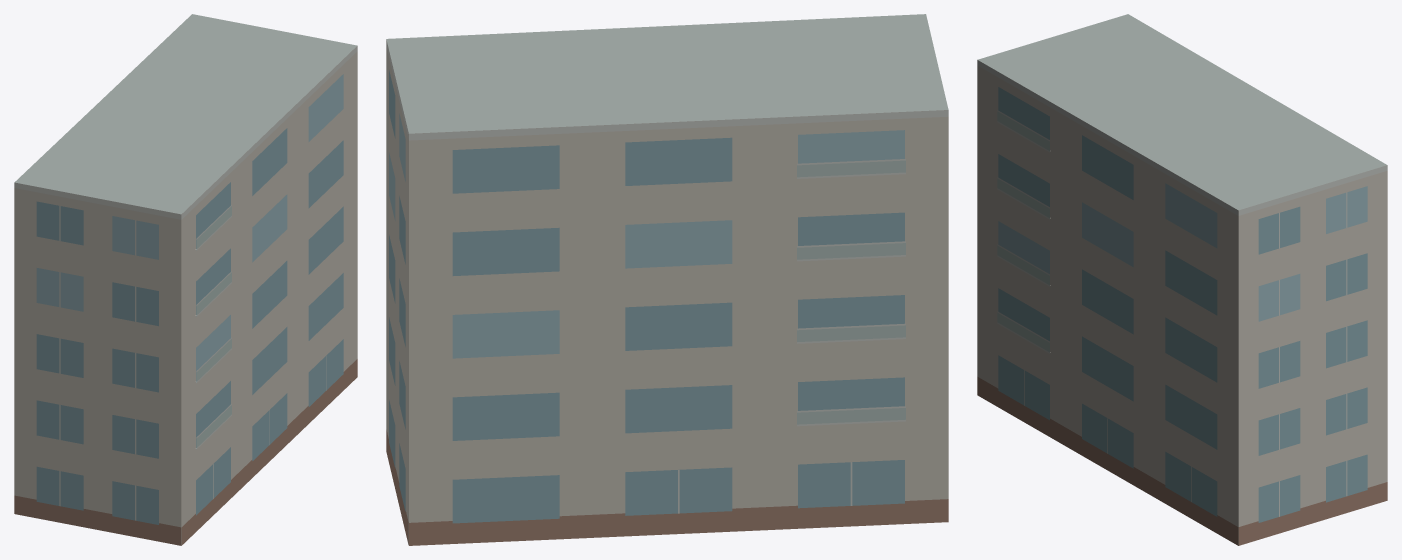
The model's file is survey-upis-32711226.glb.
3 views of the same model, side by side, from view 1: azimuth 30°, elevation 25°; view 2: azimuth 150°, elevation 25°; view 3: azimuth 270°, elevation 25° (orthographic). The views are drawn at different scales.
Parts seen in each view (by area): view 1: survey-upis-32711226.tmp; view 2: survey-upis-32711226.tmp; view 3: survey-upis-32711226.tmp.
Part boxes in pixels (x1,y1,x2,y2): survey-upis-32711226.tmp: (14,14,357,545); survey-upis-32711226.tmp: (386,14,948,545); survey-upis-32711226.tmp: (977,14,1387,545).
Size of the model in its own units: 18.47 by 14.7 by 16.3.
